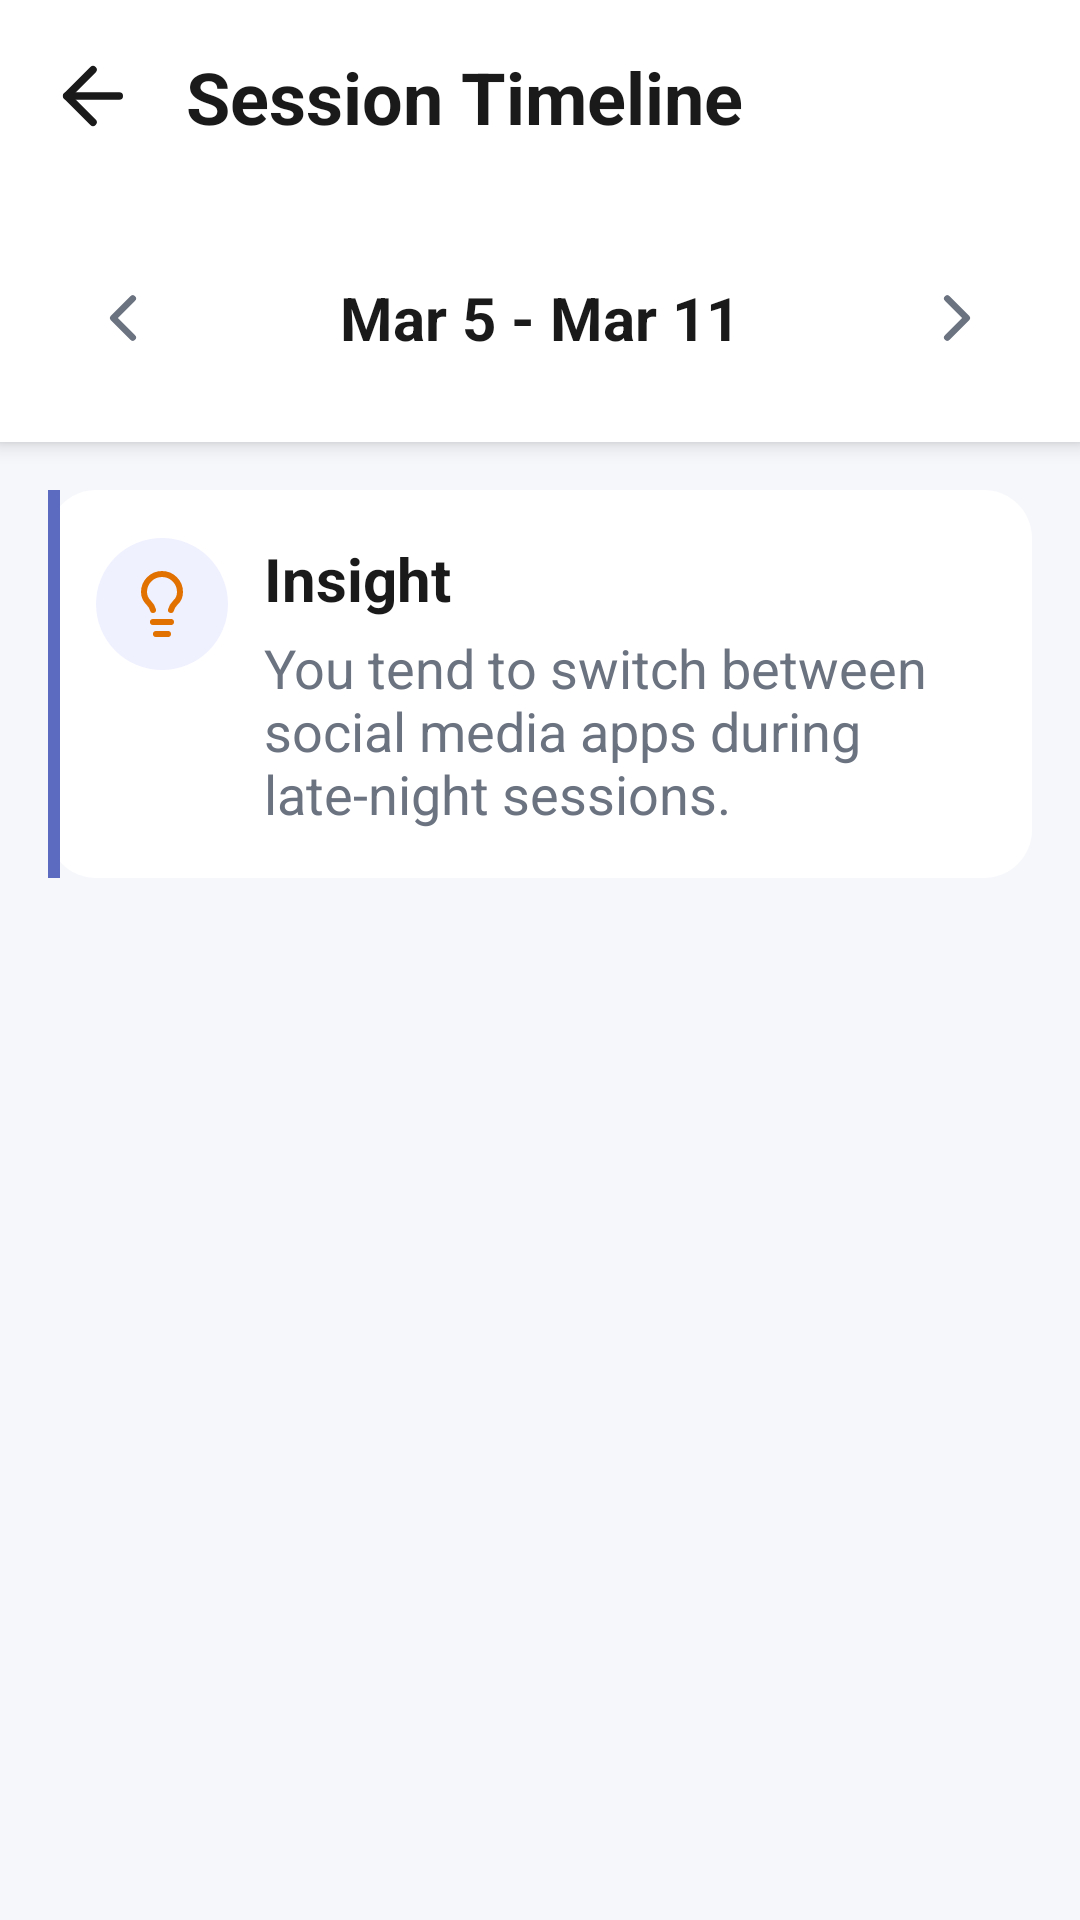

Where icons sit on this 1080*1920 app screen, as (x1, y1, x2, y2):
arrow left: (62, 65, 123, 127)
chevron left: (110, 295, 136, 341)
chevron right: (944, 295, 970, 341)
lightbulb: (141, 571, 183, 637)
